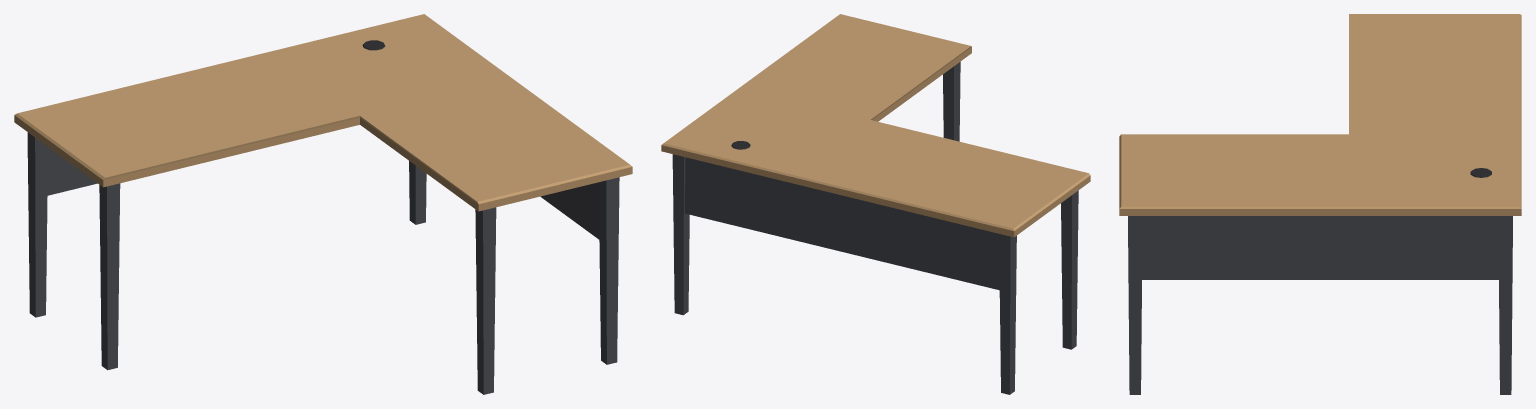
Rendered from FN_Desk_Corner.glb.
3 renders of one model, left to right at view 1: azimuth 30°, elevation 25°; view 2: azimuth 150°, elevation 25°; view 3: azimuth 270°, elevation 25°, orthographic. The views are drawn at different scales.
Parts seen in each view (by area): view 1: FN_Desk_Corner; view 2: FN_Desk_Corner; view 3: FN_Desk_Corner.
Boxes of the visible parts, x1,y1,x2,y2 form: FN_Desk_Corner: (14, 14, 632, 394); FN_Desk_Corner: (661, 14, 1090, 394); FN_Desk_Corner: (1119, 14, 1521, 394).
Bounding box in the file's own units: 1.6 × 0.744 × 1.4.
Materials: 1 (1 with a texture image).
